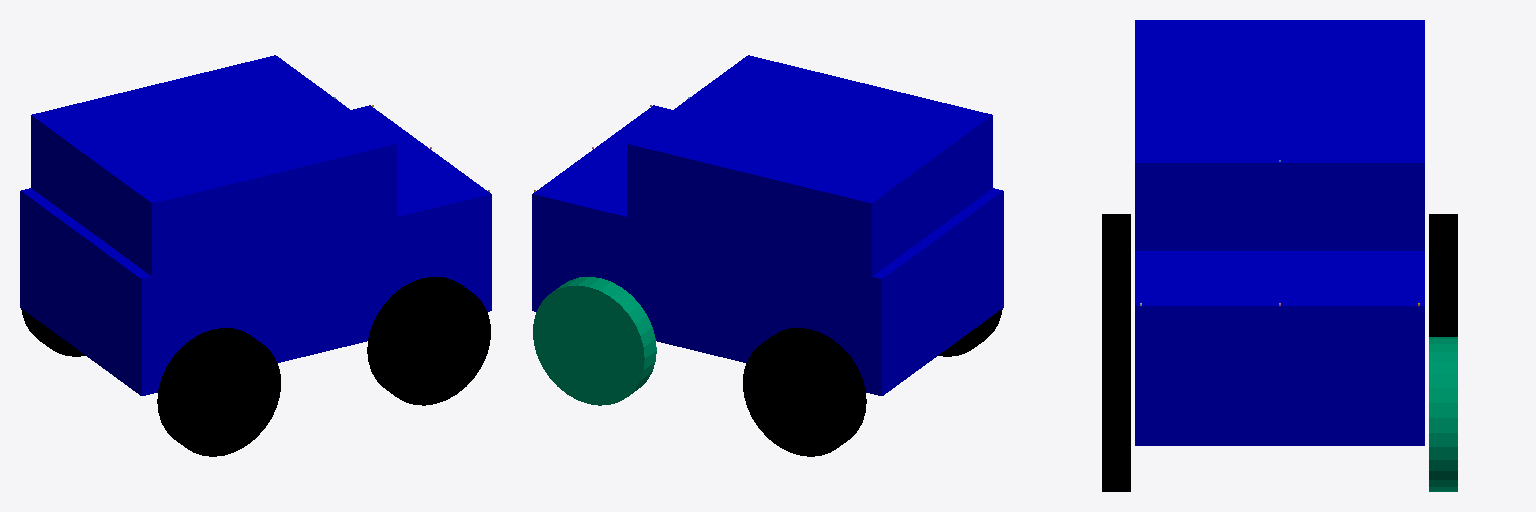
URDF robot description (our_car_follower_model):
<?xml version="1.0"?>
<robot name="our_car_follower_model">

	<!-- Chassis -->
	<link name="chassis">
		<visual>
			<origin rpy="0 0 0" xyz="0 0 0"/>
			<geometry>
				<box size="2.5 1.5 0.8"/>
			</geometry>
			<material name="blue">
				<color rgba="0.0 0.0 0.8 1.0"/>
			</material>
		</visual>
		<collision>
			<origin rpy="0 0 0" xyz="0 0 0"/>
			<geometry>
				<box size="2.5 1.5 0.8"/>
			</geometry>
		</collision>
		<inertial>
			<mass value="555"/>
			<inertia ixx="0.8" ixy="0.0" ixz="0.0" iyy="5.9" iyz="0.0" izz="5.1"/>
		</inertial>
	</link>

	<link name="roof">
		<visual>
			<origin rpy="0 0 0" xyz="0 0 0"/>
			<geometry>
				<box size="1.75 1.5 0.5"/>
			</geometry>
			<material name="blue">
				<color rgba="0.0 0.0 0.8 1.0"/>
			</material>
		</visual>
		<collision>
			<origin rpy="0 0 0" xyz="0 0 0"/>
			<geometry>
				<box size="1.75 1.5 0.5"/>
			</geometry>
		</collision>
		<inertial>
			<mass value="100"/>
			<inertia ixx="0.2" ixy="0.0" ixz="0.0" iyy="1.2" iyz="0.0" izz="1"/>
		</inertial>
	</link>

	<!-- Roues -->
	<link name="front_left_wheel">
		<visual>
			<origin rpy="0 0 0" xyz="0 0 0"/>
			<geometry>
				<cylinder length="0.15" radius="0.4"/>
			</geometry>
		</visual>
		<collision>
			<origin rpy="0 0 0" xyz="0 0 0"/>
			<geometry>
				<cylinder length="0.15" radius="0.4"/>
			</geometry>
			<surface>
        <friction>
          <ode>
            <mu>0</mu>
            <mu2>0</mu2>
          </ode>
        </friction>
      </surface>
		</collision>
		<inertial>
			<mass value="10"/>
			<inertia ixx="0.0" ixy="0.0" ixz="0.0" iyy="0.0" iyz="0.0" izz="1.0"/>
		</inertial>
	</link>

	<link name="front_right_wheel">
		<visual>
			<origin rpy="0 0 0" xyz="0 0 0"/>
			<geometry>
				<cylinder length="0.15" radius="0.4"/>
			</geometry>
			<material name="black">
				<color rgba="0.0 0.0 0.0 1.0"/>
			</material>
		</visual>
		<collision>
			<origin rpy="0 0 0" xyz="0 0 0"/>
			<geometry>
				<cylinder length="0.15" radius="0.4"/>
			</geometry>
			<surface>
        <friction>
          <ode>
            <mu>0</mu>
            <mu2>0</mu2>
          </ode>
        </friction>
      </surface>
		</collision>
		<inertial>
			<mass value="10"/>
			<inertia ixx="0.0" ixy="0.0" ixz="0.0" iyy="0.0" iyz="0.0" izz="1.0"/>
		</inertial>
	</link>

	<link name="rear_left_wheel">
		<visual>
			<origin rpy="0 0 0" xyz="0 0 0"/>
			<geometry>
				<cylinder length="0.15" radius="0.4"/>
			</geometry>
			<material name="black">
				<color rgba="0.0 0.0 0.0 1.0"/>
			</material>
		</visual>
		<collision>
			<origin rpy="0 0 0" xyz="0 0 0"/>
			<geometry>
				<cylinder length="0.15" radius="0.4"/>
			</geometry>
			<surface>
        <friction>
          <ode>
            <mu>0</mu>
            <mu2>0</mu2>
          </ode>
        </friction>
      </surface>
		</collision>
		<inertial>
			<mass value="10"/>
			<inertia ixx="0.0" ixy="0.0" ixz="0.0" iyy="0.0" iyz="0.0" izz="1.0"/>
		</inertial>
	</link>

	<link name="rear_right_wheel">
		<visual>
			<origin rpy="0 0 0" xyz="0 0 0"/>
			<geometry>
				<cylinder length="0.15" radius="0.4"/>
			</geometry>
			<material name="black">
				<color rgba="0.0 0.0 0.0 1.0"/>
			</material>
		</visual>
		<collision>
			<origin rpy="0 0 0" xyz="0 0 0"/>
			<geometry>
				<cylinder length="0.15" radius="0.4"/>
			</geometry>
			<surface>
        <friction>
          <ode>
            <mu>0</mu>
            <mu2>0</mu2>
          </ode>
        </friction>
      </surface>
		</collision>
		<inertial>
			<mass value="10"/>
			<inertia ixx="0.0" ixy="0.0" ixz="0.0" iyy="0.0" iyz="0.0" izz="1.0"/>
		</inertial>
	</link>


	<!-- First sonar sensor-->
	<link name="sonar_sensor_1">
    <inertial>
      <mass value="0.001" />
      <origin xyz="0 0 0" rpy="0 0 0" />
      <inertia ixx="0.000000017" ixy="0" ixz="0" iyy="0.000000017" iyz="0" izz="0.000000017" />
    </inertial>
    <collision>
      <origin xyz="0 0 0" rpy="0 0 0" />
      <geometry>
        <box size="0.01 0.01 0.01" />
      </geometry>
    </collision>
    <visual>
      <origin xyz="0 0 0" rpy="0 0 0" />
      <geometry>
        <box size="0.01 0.01 0.01" />
      </geometry>
    </visual>
  </link>

	<gazebo reference="sonar_sensor_1">
		<sensor type="ray" name="sensor_1">
		  <always_on>true</always_on>
		  <update_rate>10</update_rate>
		  <pose>0 0 0 0 0 0</pose>
		  <visualize>true</visualize>
		  <ray>
		    <scan>
		      <horizontal>
		        <samples>16</samples>
		        <resolution>1</resolution>
		        <min_angle>-0.16</min_angle>
		        <max_angle> 0.16</max_angle>
		      </horizontal>
		    </scan>
		    <range>
		      <min>0.05</min>
		      <max>50</max>
		      <resolution>0.02</resolution>
		    </range>
			</ray>
			<plugin name="sonar_controller_1" filename="libsonarSensor1.so"/>
		</sensor>
	</gazebo>

	<!-- Second sonar sensor -->
	<link name="sonar_sensor_2">
    <inertial>
      <mass value="0.001" />
      <origin xyz="0 0 0" rpy="0 0 0" />
      <inertia ixx="0.000000017" ixy="0" ixz="0" iyy="0.000000017" iyz="0" izz="0.000000017" />
    </inertial>
    <collision>
      <origin xyz="0 0 0" rpy="0 0 0" />
      <geometry>
        <box size="0.01 0.01 0.01" />
      </geometry>
    </collision>
    <visual>
      <origin xyz="0 0 0" rpy="0 0 0" />
      <geometry>
        <box size="0.01 0.01 0.01" />
      </geometry>
    </visual>
  </link>

	<gazebo reference="sonar_sensor_2">
		<sensor type="ray" name="sensor_2">
		  <always_on>true</always_on>
		  <update_rate>10</update_rate>
		  <pose>0 0 0 0 0 0</pose>
		  <visualize>true</visualize>
		  <ray>
		    <scan>
		      <horizontal>
		        <samples>16</samples>
		        <resolution>1</resolution>
		        <min_angle>-0.16</min_angle>
		        <max_angle> 0.16</max_angle>
		      </horizontal>
		    </scan>
		    <range>
		      <min>0.05</min>
		      <max>50</max>
		      <resolution>0.02</resolution>
		    </range>
			</ray>
			<plugin name="sonar_controller_2" filename="libsonarSensor2.so"/>
		</sensor>
	</gazebo>


	<!-- Third sonar sensor -->
	<link name="sonar_sensor_3">
    <inertial>
      <mass value="0.001" />
      <origin xyz="0 0 0" rpy="0 0 0" />
      <inertia ixx="0.000000017" ixy="0" ixz="0" iyy="0.000000017" iyz="0" izz="0.000000017" />
    </inertial>
    <collision>
      <origin xyz="0 0 0" rpy="0 0 0" />
      <geometry>
        <box size="0.01 0.01 0.01" />
      </geometry>
    </collision>
    <visual>
      <origin xyz="0 0 0" rpy="0 0 0" />
      <geometry>
        <box size="0.01 0.01 0.01" />
      </geometry>
    </visual>
  </link>

	<gazebo reference="sonar_sensor_3">
		<sensor type="ray" name="sensor_3">
		  <always_on>true</always_on>
		  <update_rate>10</update_rate>
		  <pose>0 0 0 0 0 0</pose>
		  <visualize>true</visualize>
		  <ray>
		    <scan>
		      <horizontal>
		        <samples>16</samples>
		        <resolution>1</resolution>
		        <min_angle>-0.16</min_angle>
		        <max_angle> 0.16</max_angle>
		      </horizontal>
		    </scan>
		    <range>
		      <min>0.05</min>
		      <max>50</max>
		      <resolution>0.02</resolution>
		    </range>
			</ray>
			<plugin name="sonar_controller_3" filename="libsonarSensor3.so"/>
		</sensor>
	</gazebo>


	<!-- Speed sensor -->
	<link name="speed_sensor">
    <inertial>
      <mass value="0.001" />
      <origin xyz="0 0 0" rpy="0 0 0" />
      <inertia ixx="0.000000017" ixy="0" ixz="0" iyy="0.000000017" iyz="0" izz="0.000000017" />
    </inertial>
    <collision>
      <origin xyz="0 0 0" rpy="0 0 0" />
      <geometry>
        <box size="0.01 0.01 0.01" />
      </geometry>
    </collision>
    <visual>
      <origin xyz="0 0 0" rpy="0 0 0" />
      <geometry>
        <box size="0.01 0.01 0.01" />
      </geometry>
    </visual>
  </link>

	<gazebo>
			<plugin name="speed_controller" filename="libimuSensor.so"/>
	</gazebo>



<gazebo>
  <plugin name="wheel_controller_follower" filename="libcmdFollowerCar.so"/>
</gazebo>


	<!-- Mise en place des liens -->

	<joint name="chassis_to_roof" type="fixed">
		<parent link="chassis"/>
		<child link="roof"/>
		<origin xyz="-0.3 0 0.65"/>
	</joint>

	<joint name="chassis_to_front_left_wheel" type="continuous">
		<parent link="chassis"/>
		<child link="front_left_wheel"/>
		<origin rpy="1.57075 0 0" xyz="0.75 0.845 -0.45"/>
		<axis xyz = "0 0 1" />
	</joint>

	<joint name="chassis_to_front_right_wheel" type="continuous">
		<parent link="chassis"/>
		<child link="front_right_wheel"/>
		<origin rpy="1.57075 0 0" xyz="0.75 -0.845 -0.45"/>
		<axis xyz = "0 0 1" />
	</joint>

	<joint name="chassis_to_rear_left_wheel" type="continuous">
		<parent link="chassis"/>
		<child link="rear_left_wheel"/>
		<origin rpy="1.57075 0 0" xyz="-0.75 0.845 -0.45"/>
		<axis xyz = "0 0 1" />
	</joint>

	<joint name="chassis_to_rear_right_wheel" type="continuous">
		<parent link="chassis"/>
		<child link="rear_right_wheel"/>
		<origin rpy="1.57075 0 0" xyz="-0.75 -0.845 -0.45"/>
		<axis xyz = "0 0 1" />
	</joint>

	<joint name="chassis_to_sonar_sensor_1" type="fixed">
		<parent link="chassis"/>
		<child link="sonar_sensor_1"/>
		<origin rpy="0 0 0" xyz="1.25 0 0.41"/>
	</joint>

	<joint name="chassis_to_sonar_sensor_2" type="fixed">
		<parent link="chassis"/>
		<child link="sonar_sensor_2"/>
		<origin rpy="0 0 0" xyz="1.25 -0.72 0.41"/>
	</joint>

	<joint name="chassis_to_sonar_sensor_3" type="fixed">
		<parent link="chassis"/>
		<child link="sonar_sensor_3"/>
		<origin rpy="0 0 0" xyz="1.25 0.72 0.41"/>
	</joint>

	<joint name="toit_to_speed_sensor" type="fixed">
		<parent link="roof"/>
		<child link="speed_sensor"/>
		<origin rpy="0 0 0" xyz="0.865 0 0.26"/>
	</joint>

	<!-- Mise en place des transmissions -->

	<transmission name="front_left_wheel_transmission">
		<type>transmission_interface/SimpleTransmission</type>
		<joint name="chassis_to_front_left_wheel">
			<hardwareInterface>EffortJointInterface</hardwareInterface>
		</joint>
		<actuator name="left_motor"/>
	</transmission>

	<transmission name="front_right_wheel_transmission">
		<type>transmission_interface/SimpleTransmission</type>
		<joint name="chassis_to_front_right_wheel">
			<hardwareInterface>EffortJointInterface</hardwareInterface>
		</joint>
		<actuator name="right_motor"/>
	</transmission>


	<!-- Couleurs -->
	<gazebo reference="front_left_wheel">
		<material>Gazebo/Black</material>
	</gazebo>

	<gazebo reference="front_right_wheel">
		<material>Gazebo/Black</material>
	</gazebo>

	<gazebo reference="rear_left_wheel">
		<material>Gazebo/Black</material>
	</gazebo>

	<gazebo reference="rear_right_wheel">
		<material>Gazebo/Black</material>
	</gazebo>

	<gazebo reference="chassis">
		<material>Gazebo/Orange</material>
	</gazebo>

	<gazebo reference="roof">
		<material>Gazebo/Orange</material>
	</gazebo>

	<gazebo reference="speed_sensor">
		<material>Gazebo/Black</material>
	</gazebo>



</robot>

--- What the picture shows (computed from the rendered views, not written in the file) ---
3 views of the same robot in one strip: view 1: azimuth 30°, elevation 25°; view 2: azimuth 150°, elevation 25°; view 3: azimuth 270°, elevation 25° (orthographic).
Robot: our_car_follower_model — 10 links, 9 joints (4 continuous, 5 fixed); root link chassis; default pose: every joint at zero.
Visible links, largest first — view 1: roof, chassis, rear_right_wheel, front_right_wheel, rear_left_wheel; view 2: roof, chassis, rear_left_wheel, front_left_wheel, rear_right_wheel; view 3: roof, chassis, front_left_wheel, front_right_wheel, rear_left_wheel, rear_right_wheel.
Link boxes in pixels (left/top/right/bottom): roof: left=31, top=55, right=396, bottom=276; chassis: left=20, top=105, right=491, bottom=395; rear_right_wheel: left=157, top=328, right=280, bottom=456; front_right_wheel: left=367, top=277, right=490, bottom=405; rear_left_wheel: left=21, top=309, right=85, bottom=356; roof: left=627, top=55, right=992, bottom=276; chassis: left=532, top=105, right=1003, bottom=395; rear_left_wheel: left=743, top=328, right=866, bottom=456; front_left_wheel: left=533, top=277, right=656, bottom=405; rear_right_wheel: left=938, top=309, right=1002, bottom=356; roof: left=1135, top=20, right=1424, bottom=250; chassis: left=1135, top=251, right=1424, bottom=445; front_left_wheel: left=1429, top=337, right=1457, bottom=491; front_right_wheel: left=1102, top=337, right=1130, bottom=491; rear_left_wheel: left=1429, top=214, right=1457, bottom=336; rear_right_wheel: left=1102, top=214, right=1130, bottom=336.
Size in the robot's own frame: 2.5 by 1.84 by 1.76 metres.
Geometry: primitives only (box / cylinder / sphere), no mesh files.
